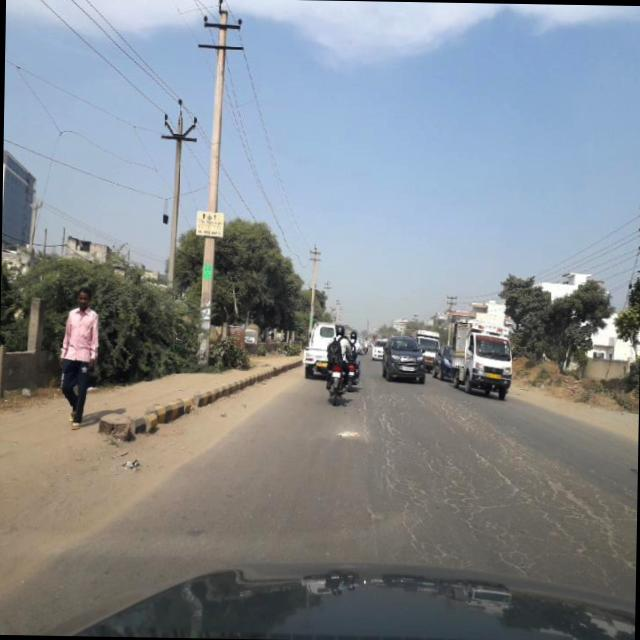crack: (400, 490, 636, 580), (357, 402, 592, 492)
